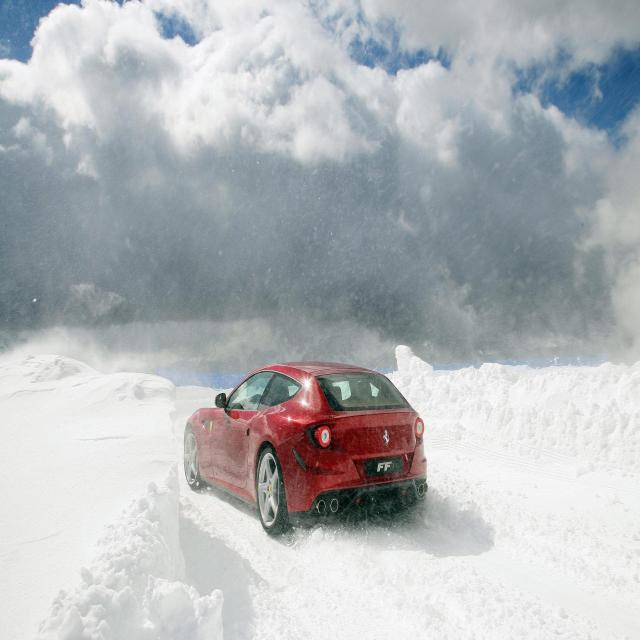Car: (166, 334, 456, 564)
